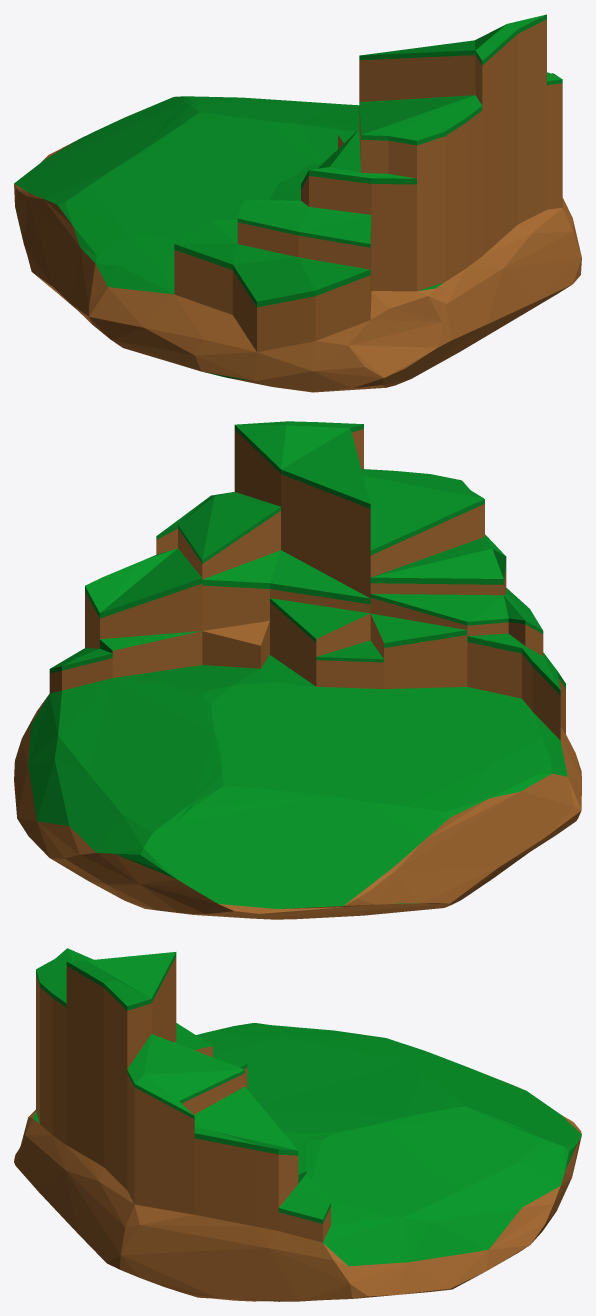
The model's file is bigplatformv2.2.fbx.
3 renders of one model, top to bottom at view 1: azimuth 30°, elevation 25°; view 2: azimuth 150°, elevation 25°; view 3: azimuth 270°, elevation 25°, orthographic. The views are drawn at different scales.
Parts seen in each view (by area): view 1: BigPlatform2; view 2: BigPlatform2; view 3: BigPlatform2.
Boxes of the visible parts, box(x1,y1,x2,y2) form: BigPlatform2: box(14, 14, 581, 392); BigPlatform2: box(14, 421, 581, 919); BigPlatform2: box(14, 948, 581, 1301).
Bounding box in the file's own units: 1083 × 682 × 1141.
